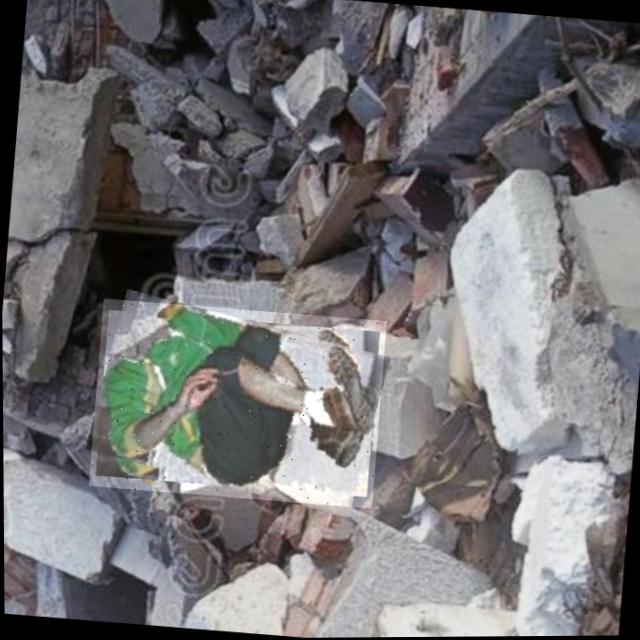Person in Rubble: (87, 296, 387, 510)
